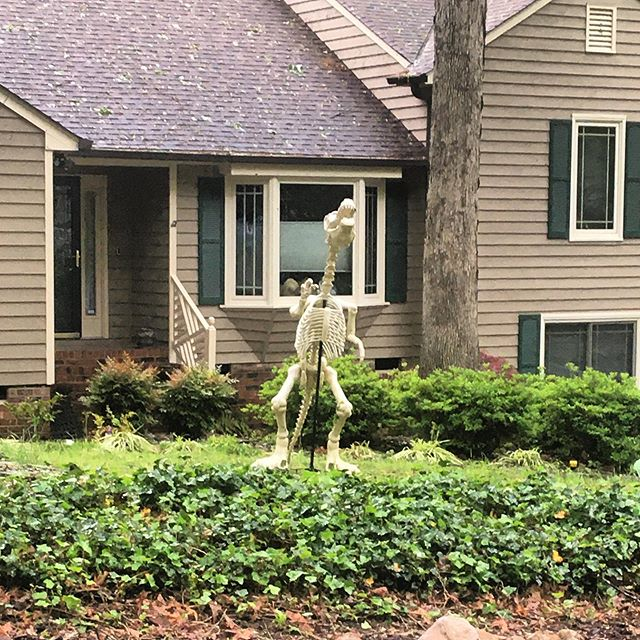bones: (250, 205, 387, 489)
building: (1, 1, 404, 356), (399, 1, 640, 356)
vegetation: (15, 371, 640, 607)
